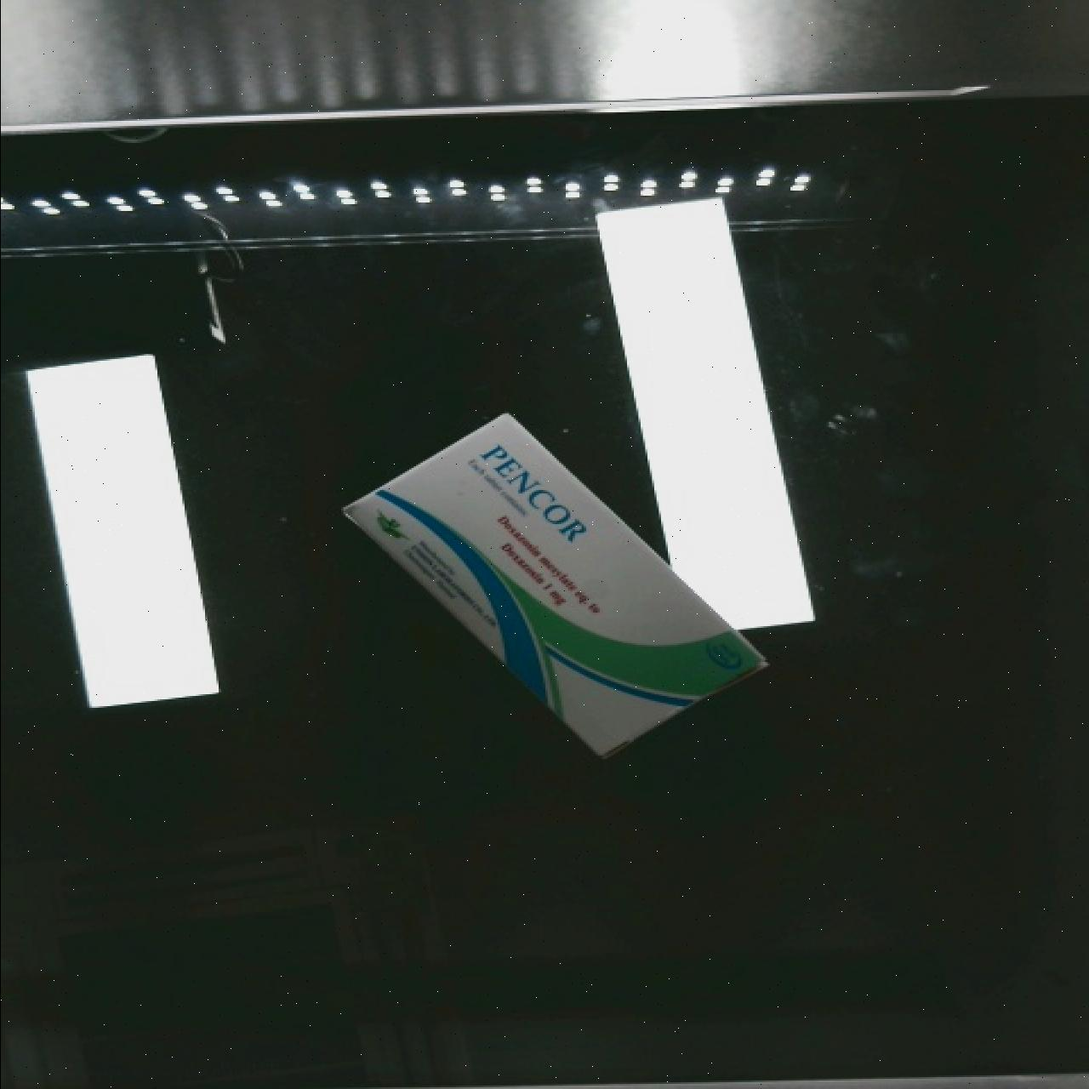medicine_label_obb: (456, 410, 619, 575)
